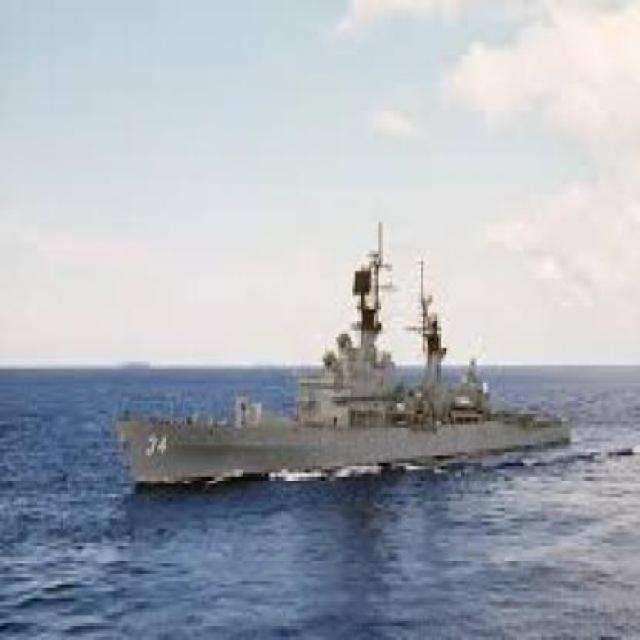warship2: (115, 227, 587, 509)
